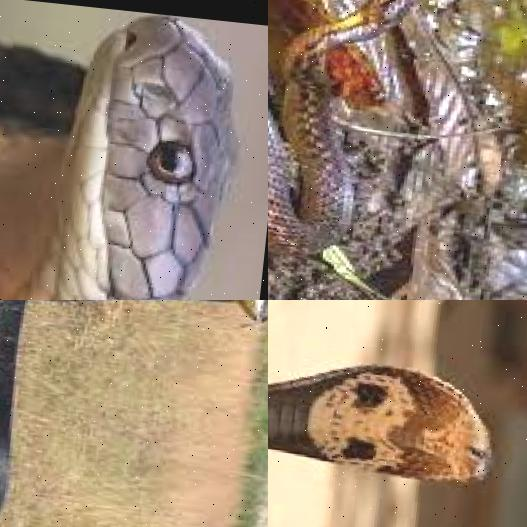snake: (0, 0, 268, 300), (268, 0, 506, 300), (268, 300, 511, 527), (0, 300, 268, 367)
